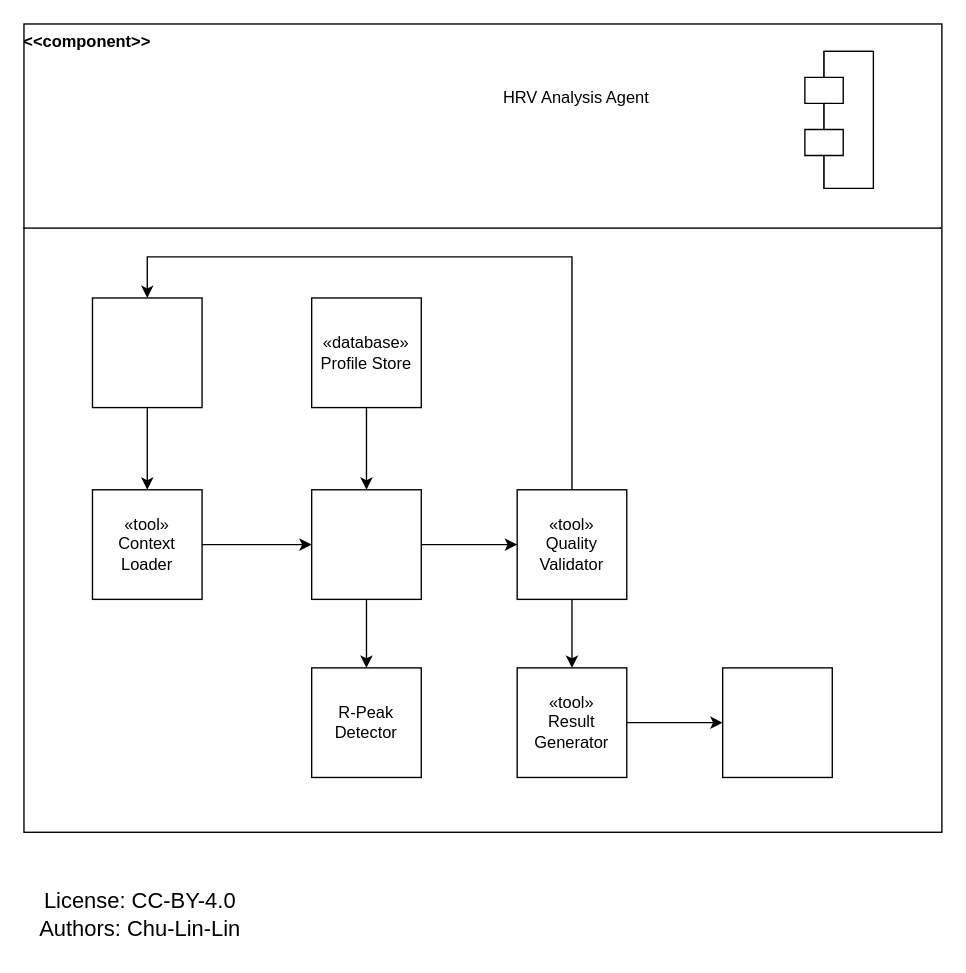
Image size: 966x973. Some labels were removed from this diagram. Each missing label, with the box of its shape:
«agent» orchestrator: (91, 297, 202, 408)
«artifact» md Report: (721, 667, 832, 777)
«tool» Adaptive Analyzer: (310, 488, 421, 599)
